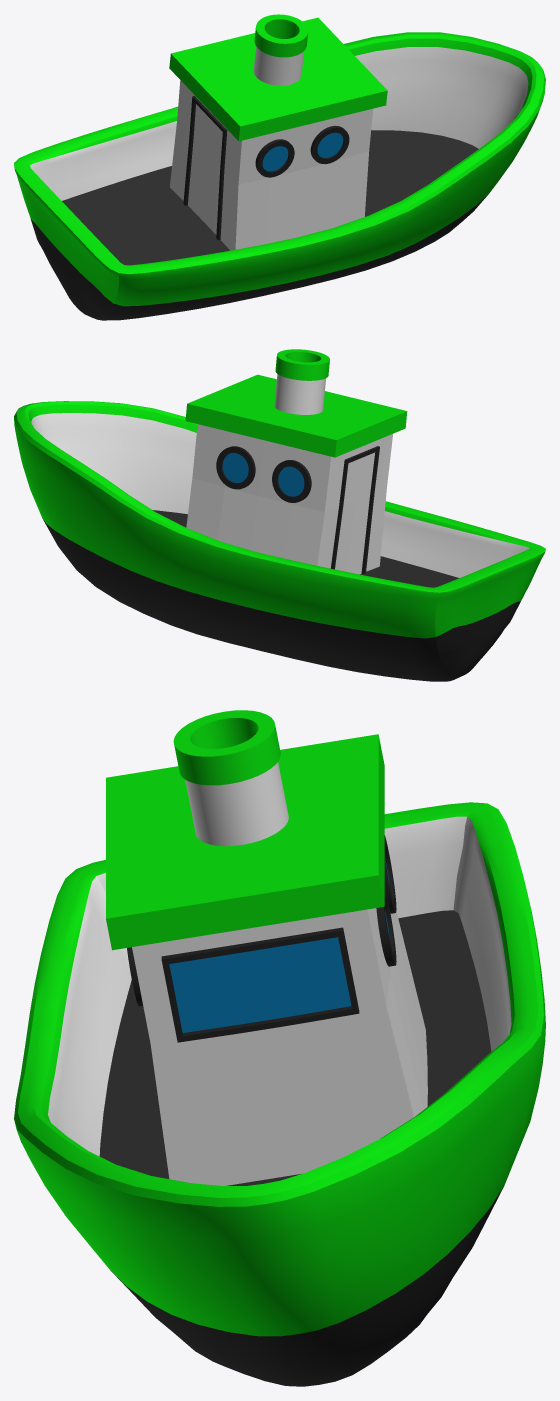
File: AnimBarquinho2.fbx
3 renders of one model, top to bottom at view 1: azimuth 30°, elevation 25°; view 2: azimuth 150°, elevation 25°; view 3: azimuth 270°, elevation 25°, orthographic. The views are drawn at different scales.
Parts seen in each view (by area): view 1: Yellow Boat; view 2: Yellow Boat; view 3: Yellow Boat.
Part boxes in pixels (left/top/right/bottom): Yellow Boat: left=14, top=14, right=545, bottom=320; Yellow Boat: left=14, top=349, right=545, bottom=681; Yellow Boat: left=14, top=710, right=545, bottom=1386.
Bounding box in the file's own units: 9.61 × 5.33 × 4.75.
